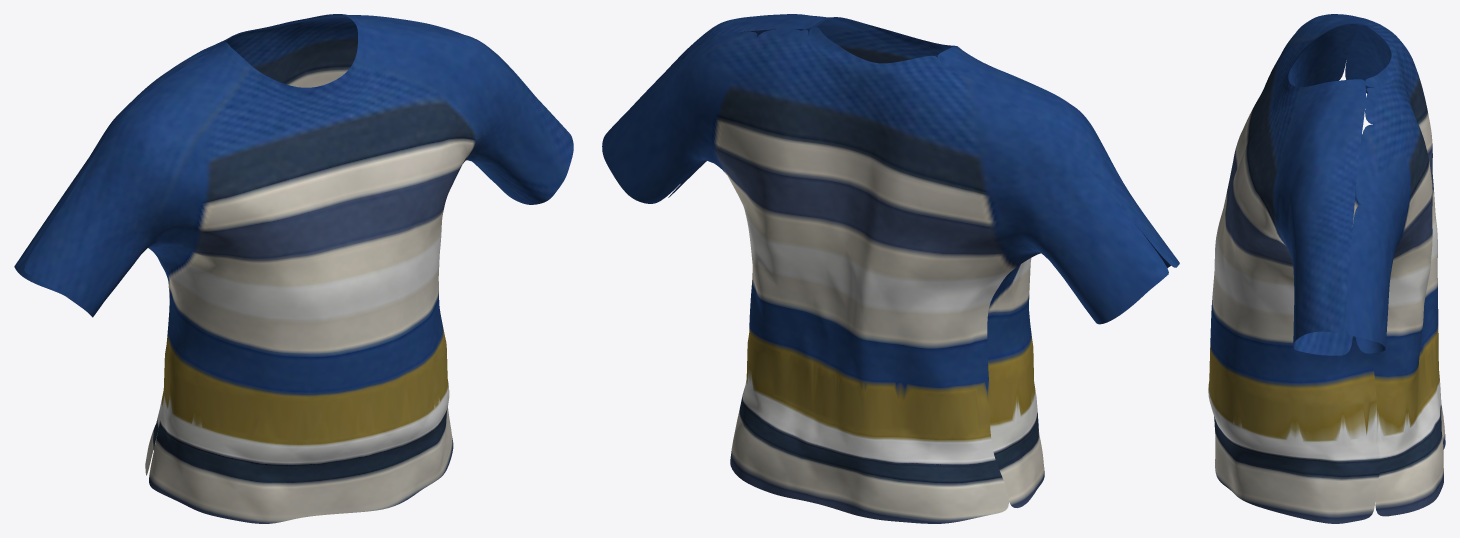
File: TL_XLM.dae
The picture shows the model from 3 angles, left to right: view 1: azimuth 30°, elevation 25°; view 2: azimuth 150°, elevation 25°; view 3: azimuth 270°, elevation 25°; orthographic projection. The views are drawn at different scales.
Parts seen in each view (by area): view 1: tshirt; view 2: tshirt; view 3: tshirt.
Boxes of the visible parts, x1,y1,x2,y2 form: tshirt: (14, 14, 573, 523); tshirt: (602, 14, 1179, 523); tshirt: (1208, 14, 1445, 523).
Size of the model in its own units: 7.52 by 5.64 by 2.95.
